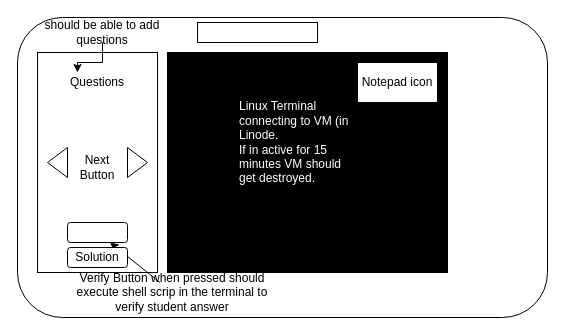
Image size: 565x335. Some labels were removed from this diagram. The centre of each missing label's shape, as x and y in pixels:
"Lab Page" belongs at pixel 257 32.
"Verify" belongs at pixel 97 232.
